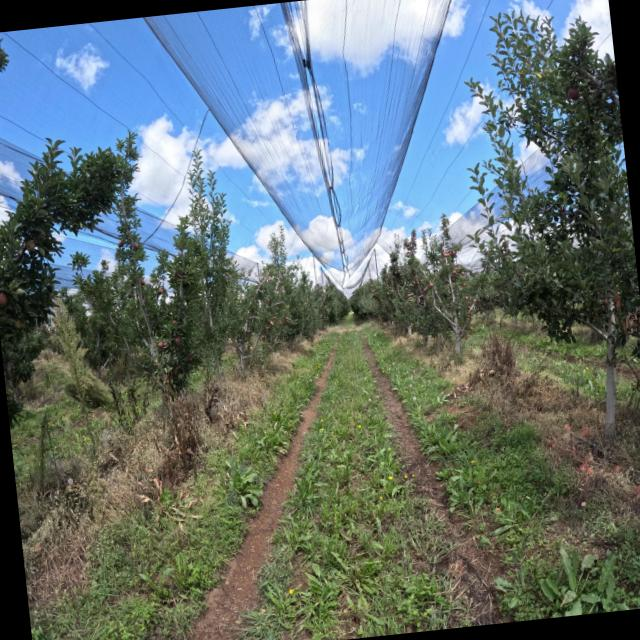-FireBlight-: (622, 307, 640, 336), (614, 292, 621, 311)
